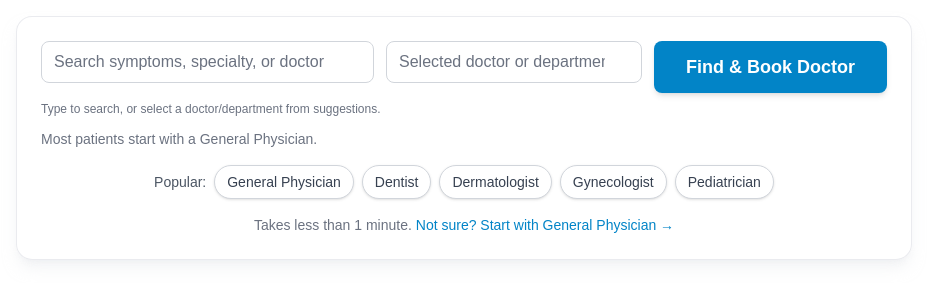
Test: HeroSearch › Not sure? link sets specialty to General Physician
Click the button "Not sure? Start with General Physician →" at (545, 225), box [416,215,674,235]
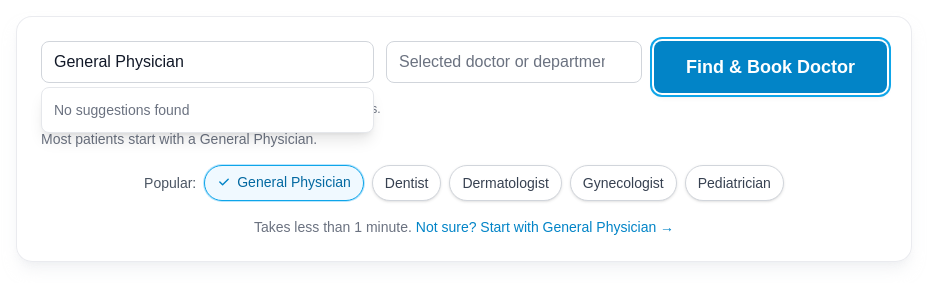
Expected: the field with placeholder "Search symptoms, specialty, or doctor" holds "General Physician", [42,42,373,82]
